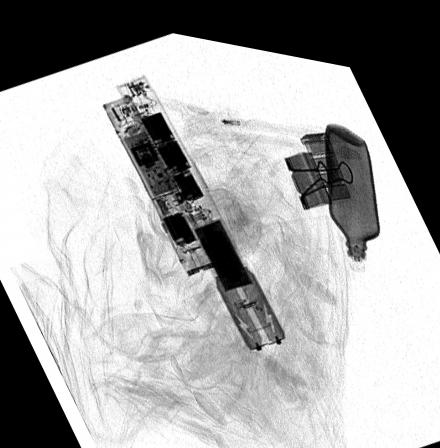Baton: (114, 70, 287, 344), (100, 89, 219, 271)
